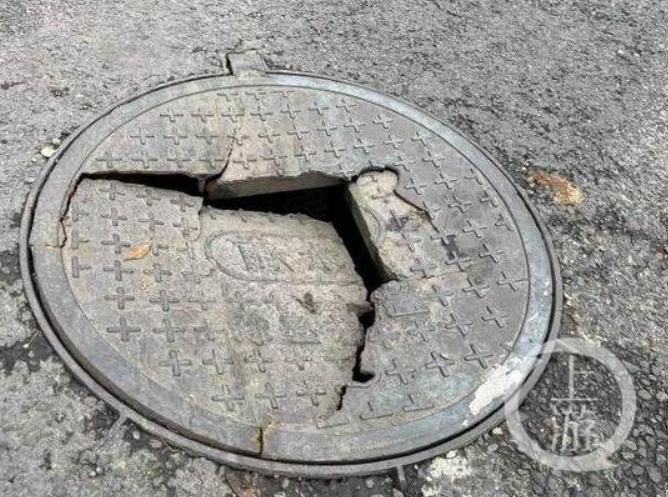wellcover: (0, 15, 608, 485)
